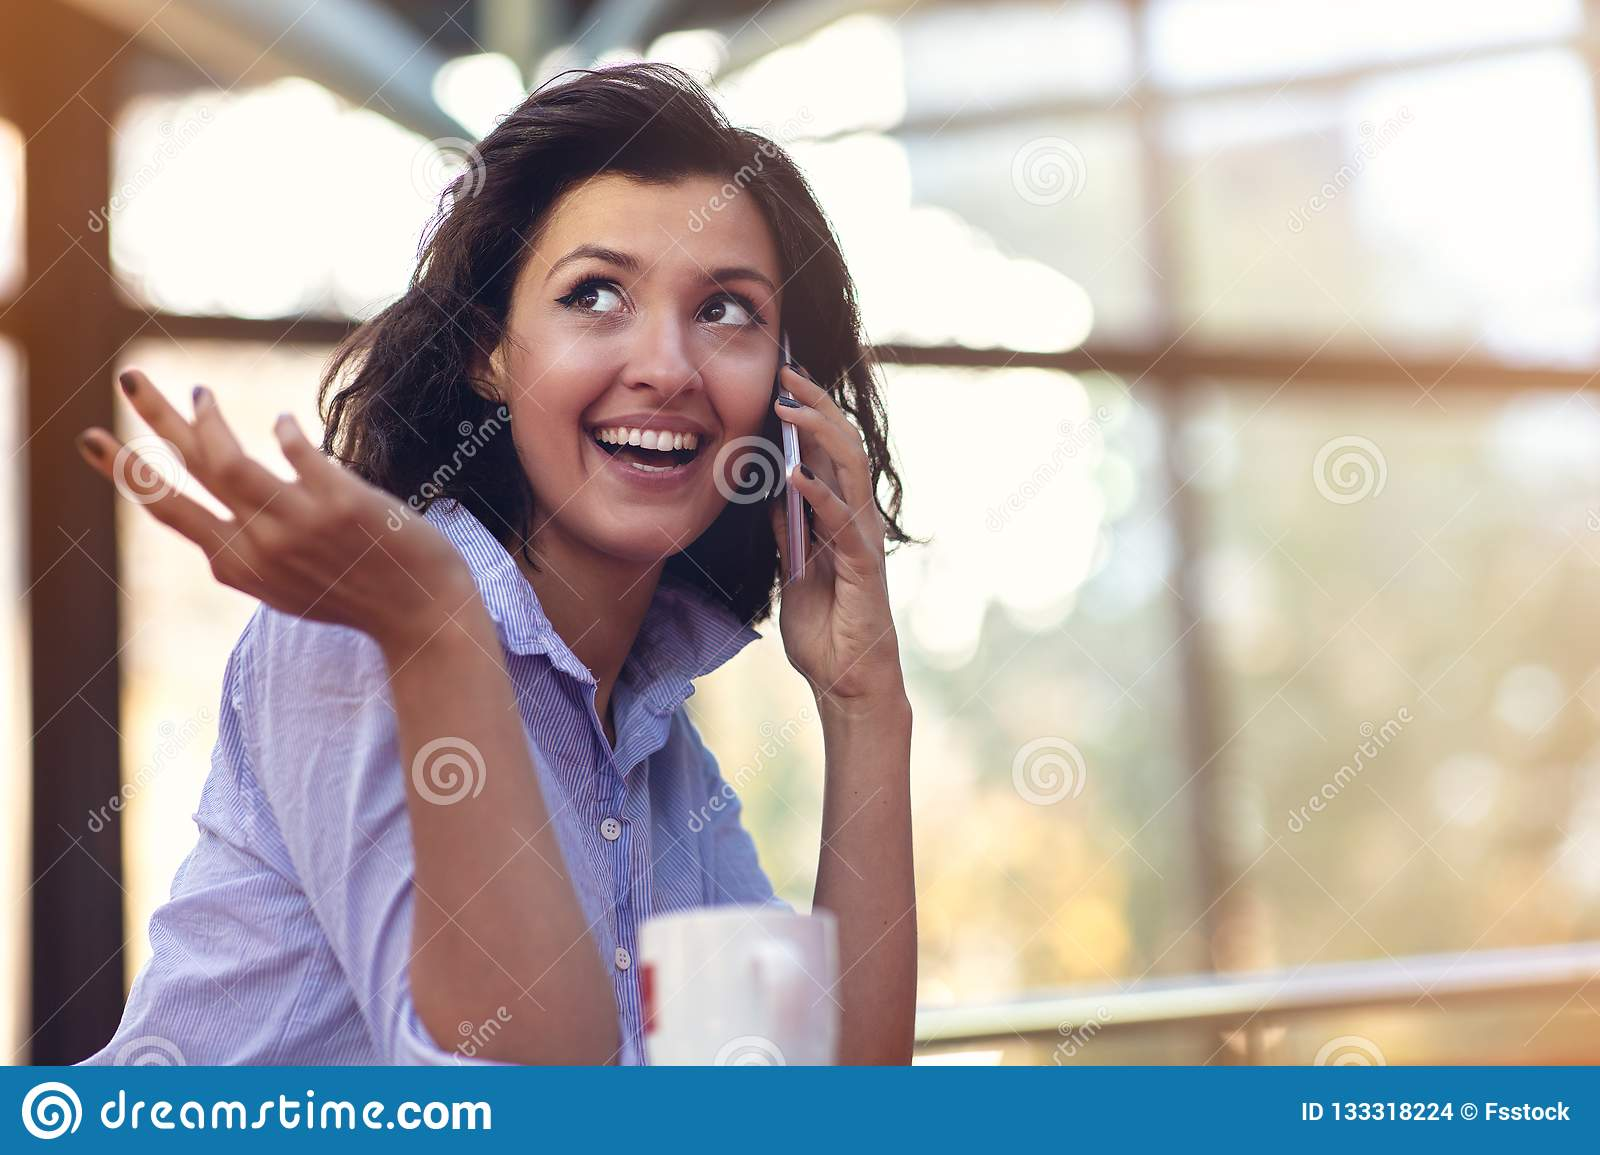phone: (765, 320, 810, 587)
talk: (534, 235, 909, 739)
